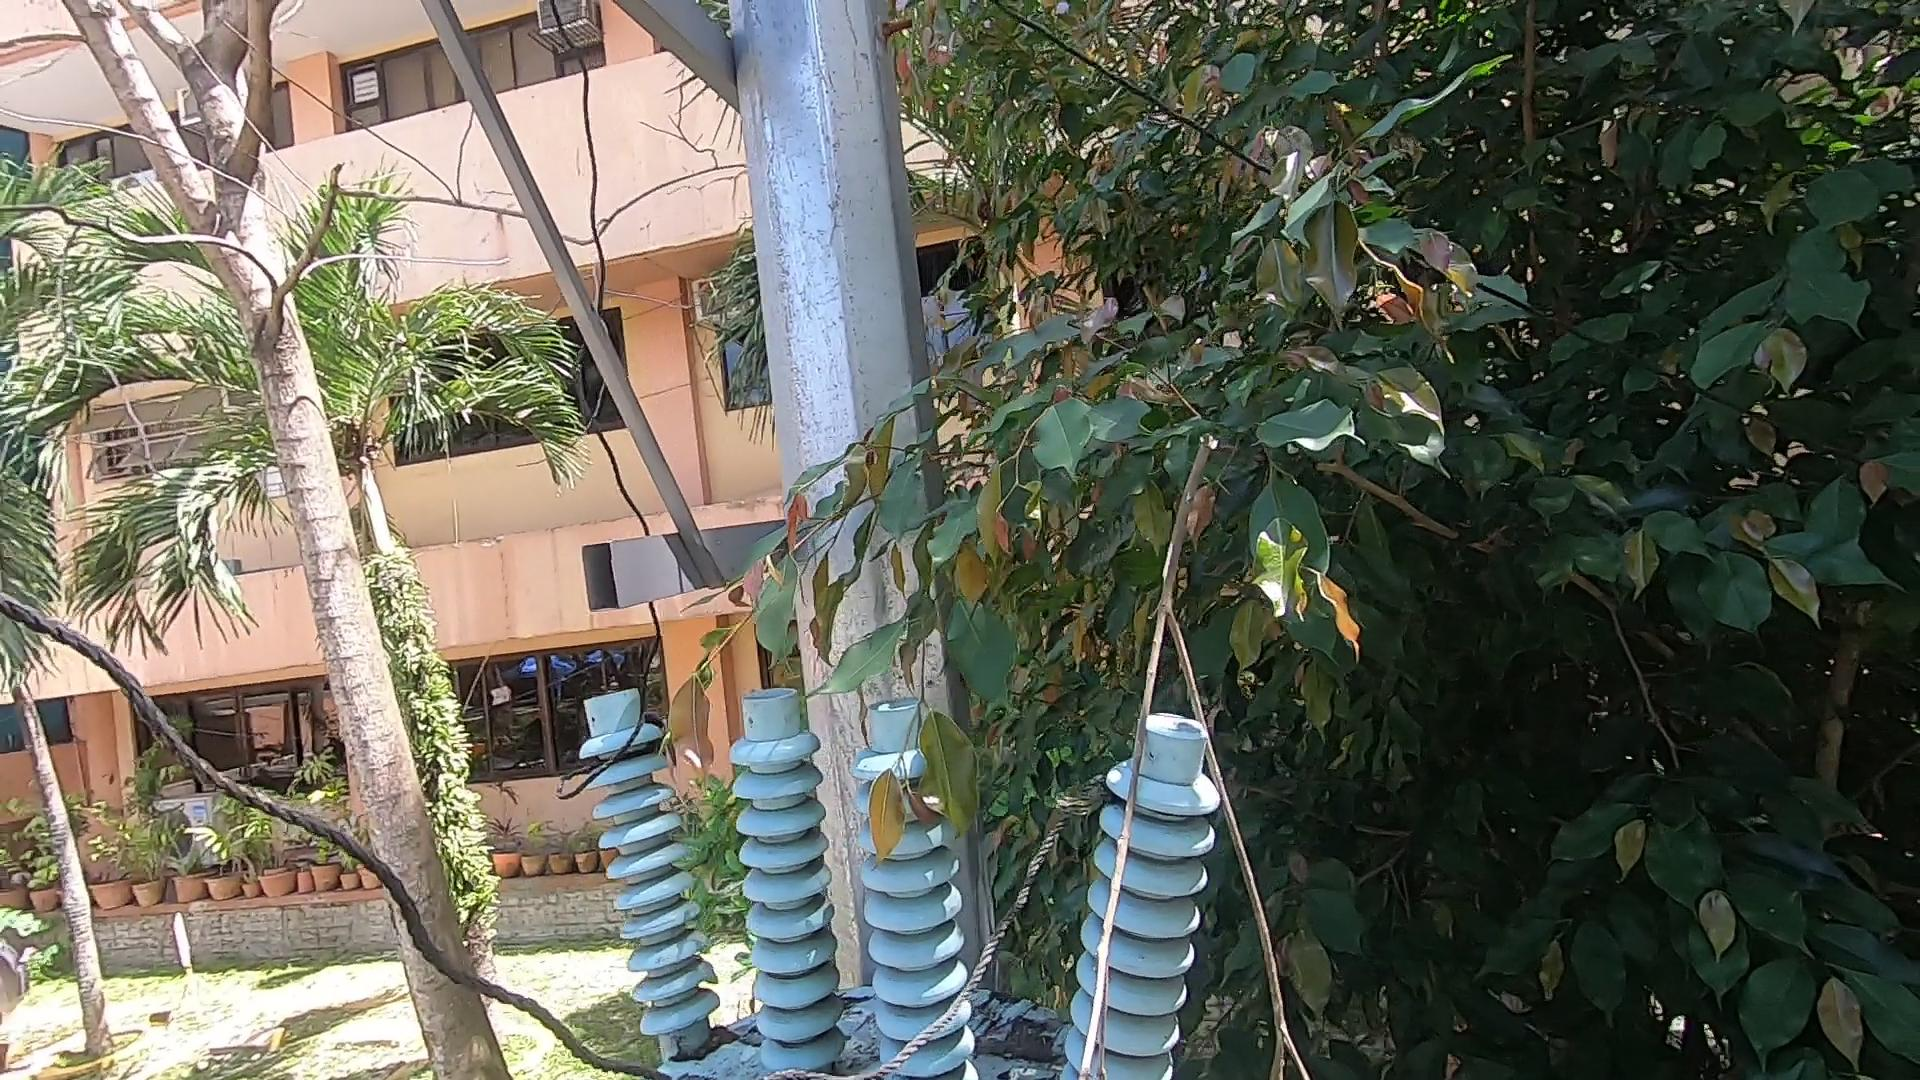leaf: (675, 1021, 738, 1060)
tree branch: (1089, 439, 1323, 1077)
